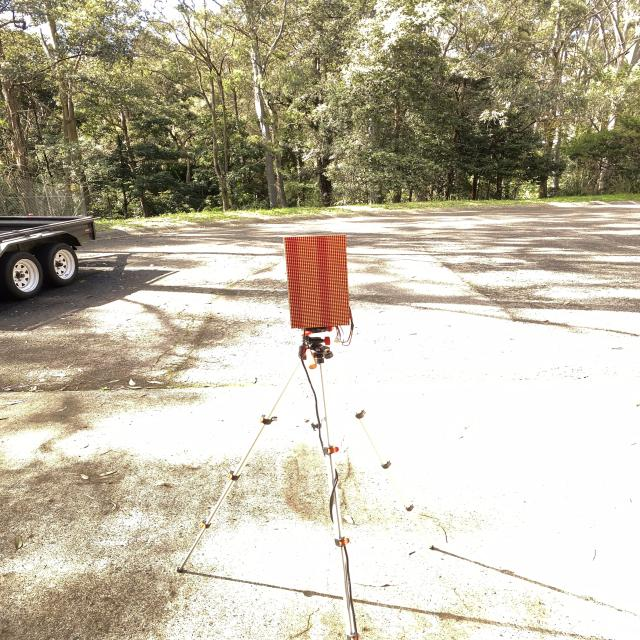matrix: (282, 232, 356, 332)
